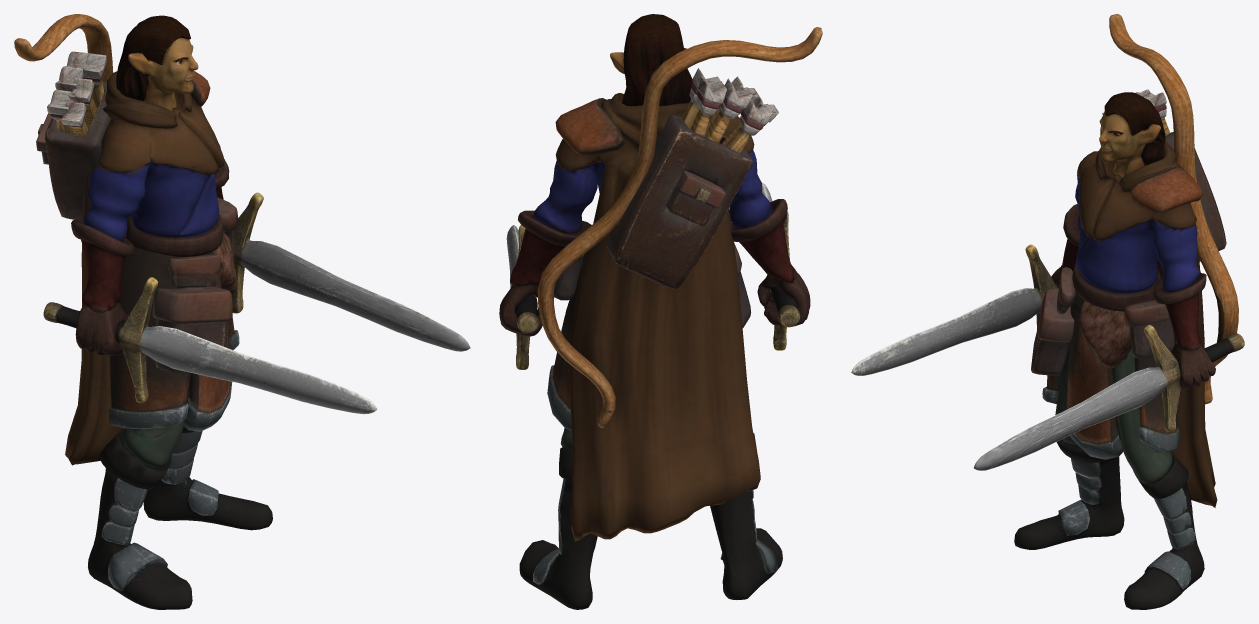
File: MZ4250 - Elf Male Two Sword Ranger.glb
3 views of the same model, side by side, from view 1: azimuth 30°, elevation 25°; view 2: azimuth 150°, elevation 25°; view 3: azimuth 270°, elevation 25° (orthographic). The views are drawn at different scales.
Visible parts, largest first — view 1: Elf Male Two Sword Ranger.001; view 2: Elf Male Two Sword Ranger.001; view 3: Elf Male Two Sword Ranger.001.
Part boxes in pixels (x1,y1,x2,y2): Elf Male Two Sword Ranger.001: (14, 14, 470, 609); Elf Male Two Sword Ranger.001: (499, 14, 822, 609); Elf Male Two Sword Ranger.001: (851, 14, 1244, 609).
Bounding box in the file's own units: 125 × 179 × 131.
Materials: 1 (1 with a texture image).
